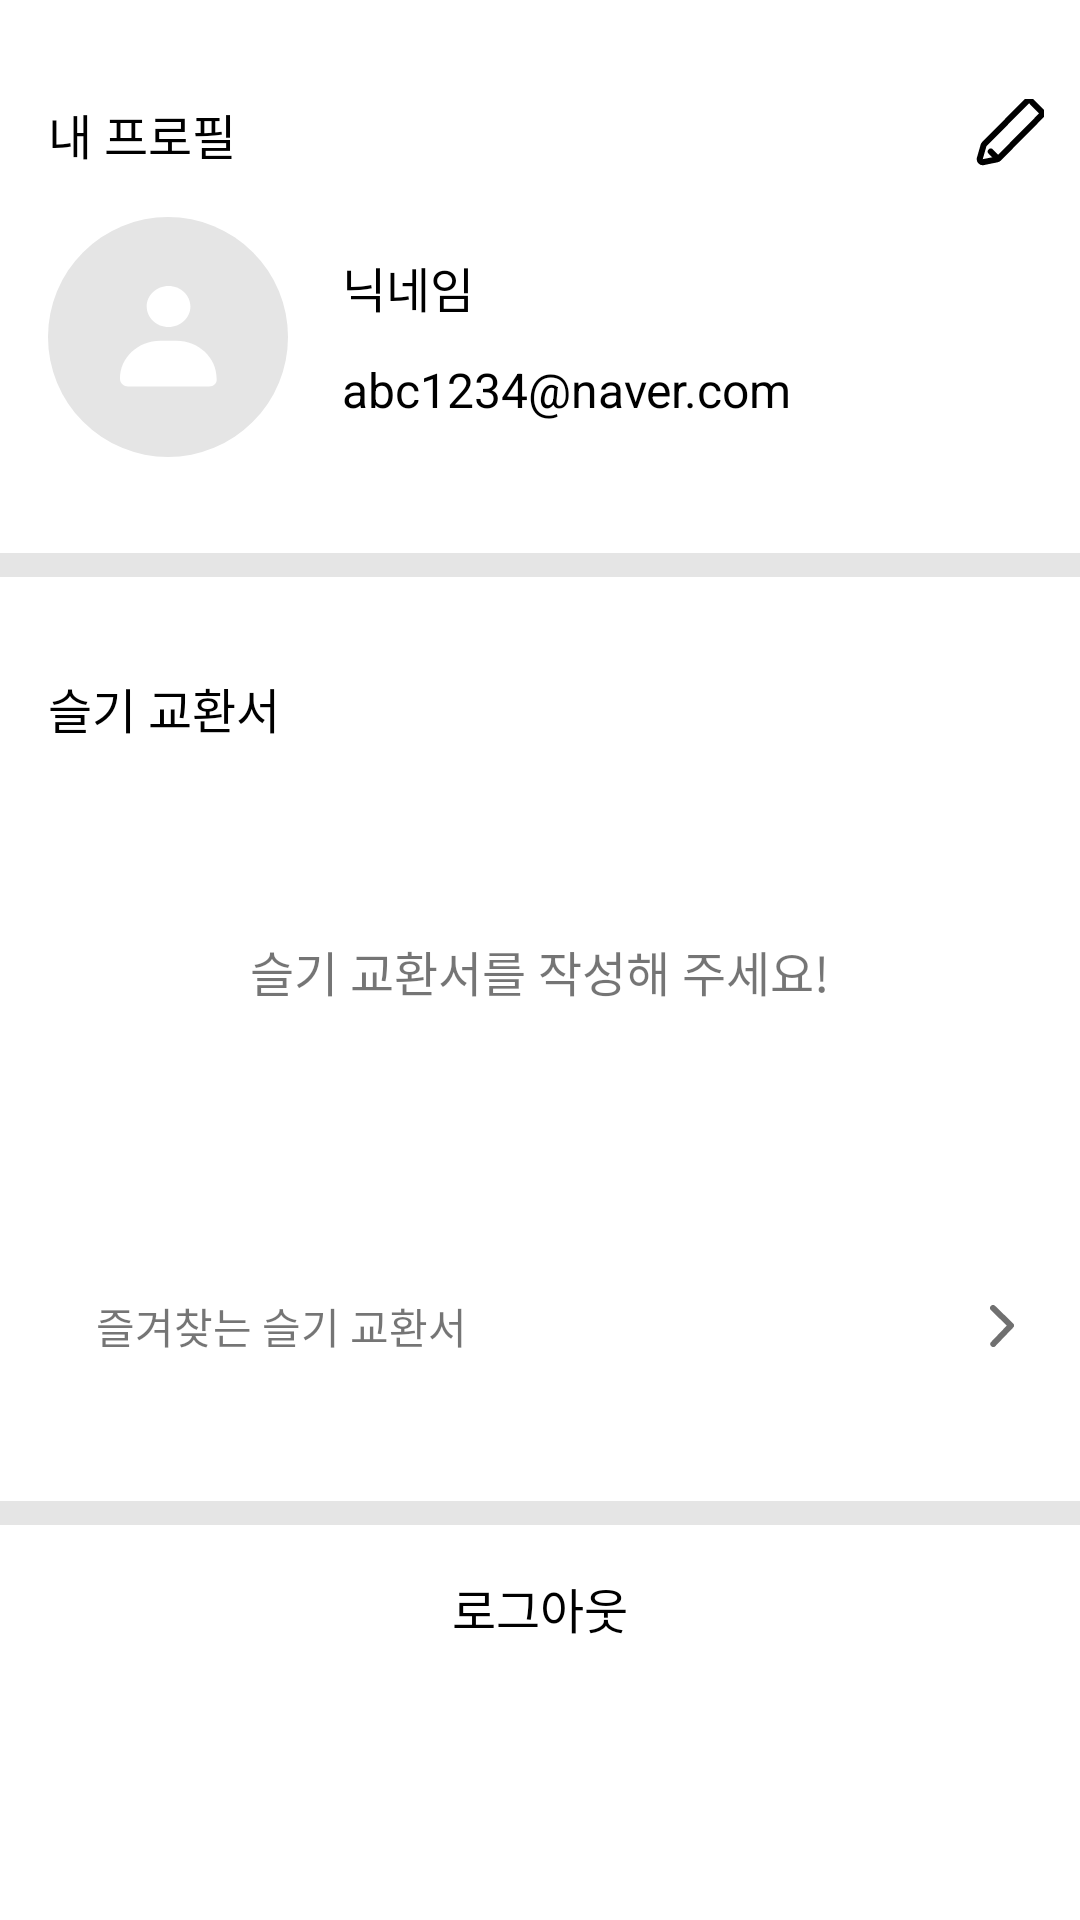

Where icons sit on this 1080 × 1920 app screen, as region(x1, y1, x2, y2):
chevron right: region(990, 1305, 1014, 1347)
write: region(976, 99, 1044, 166)
